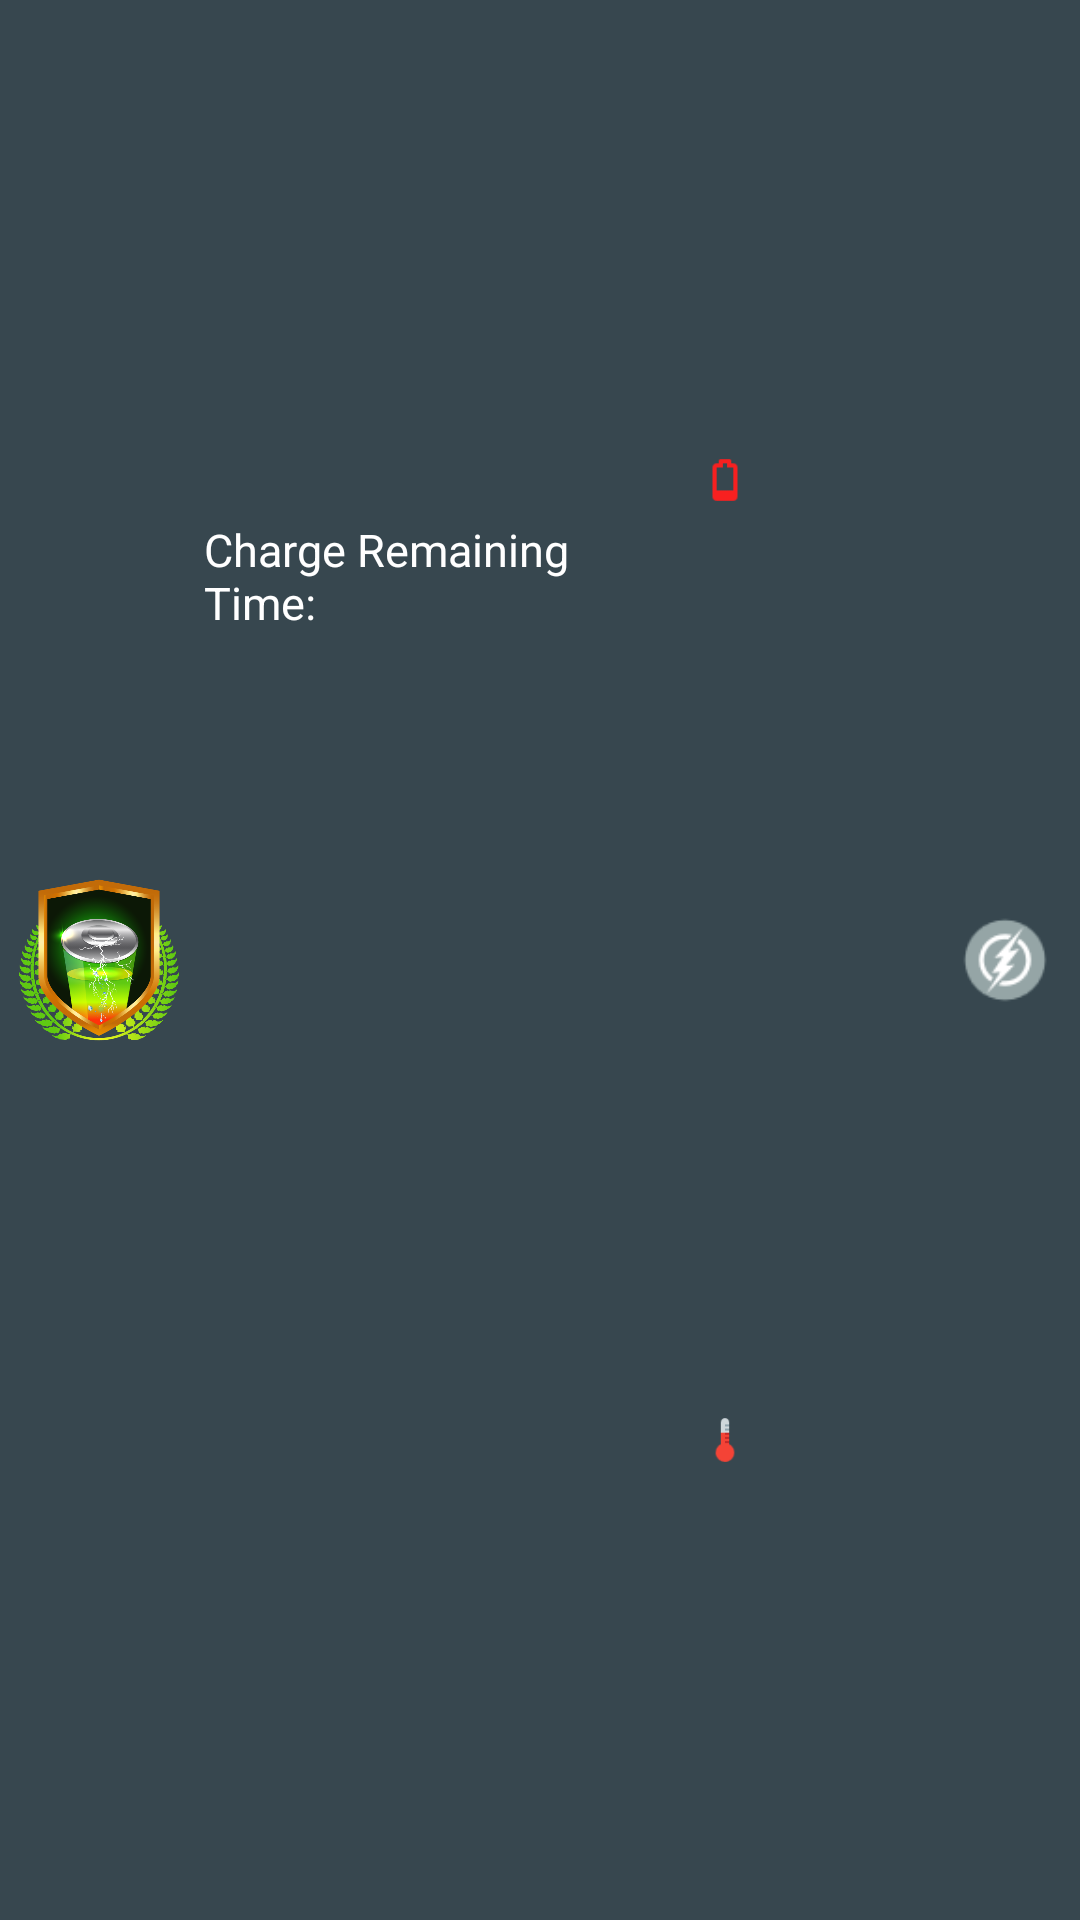

Where icons sit on this 1080 × 1920 app screen, as BBox(x1, y1, x2, y2):
notifi optimize butt: BBox(965, 920, 1046, 1001)
